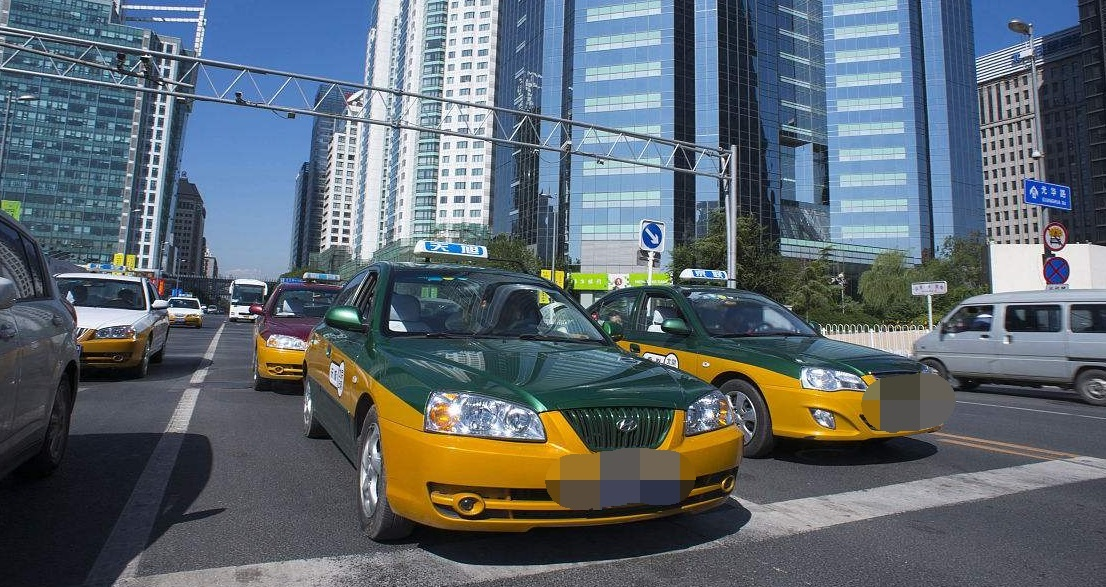taxi: (295, 234, 742, 543)
